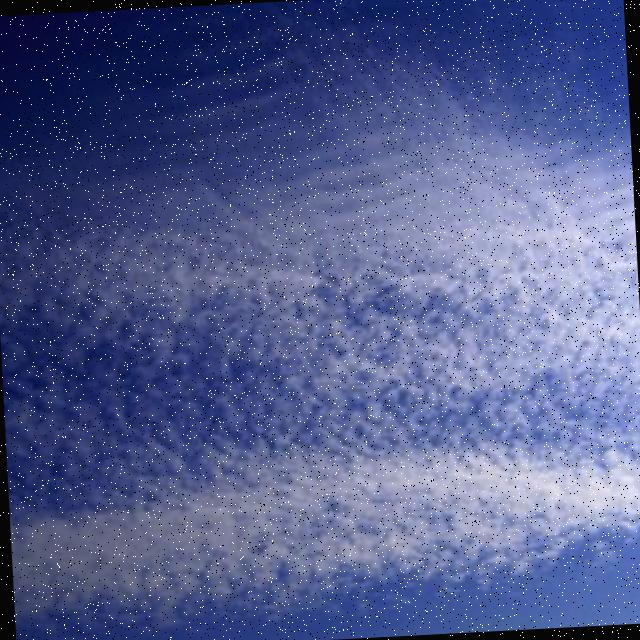Cc: (1, 89, 640, 609)
